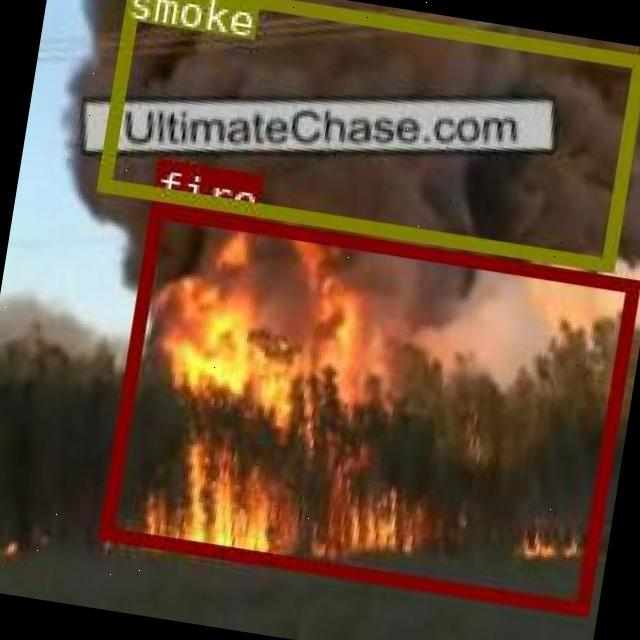fire: (98, 203, 638, 614)
smoke: (97, 0, 640, 268)
